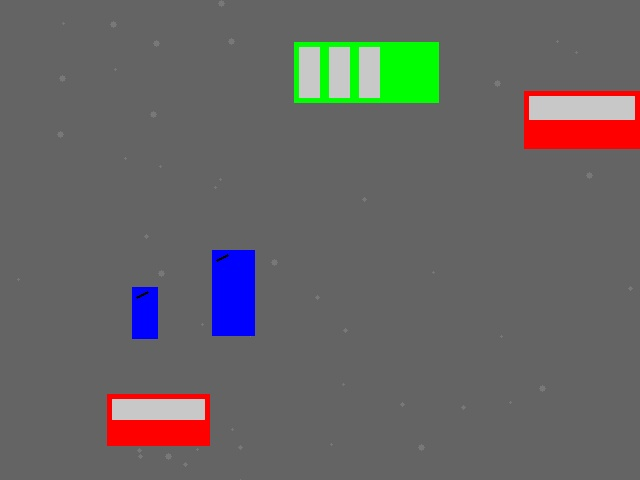bus: (294, 42, 438, 102)
car: (524, 91, 639, 148), (107, 394, 209, 445)
motorcycle: (212, 250, 254, 335), (132, 287, 157, 338)
